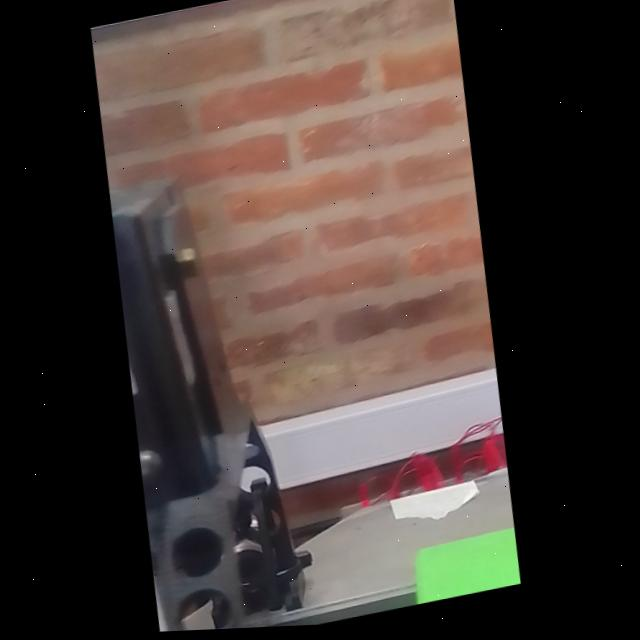greenBox: (403, 520, 529, 610)
